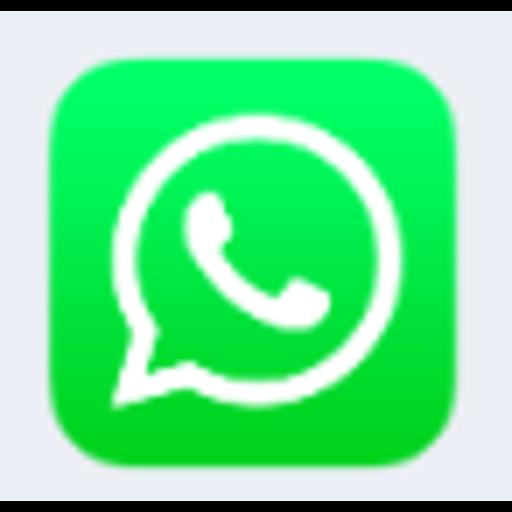WhatsApp: (0, 11, 512, 501)
